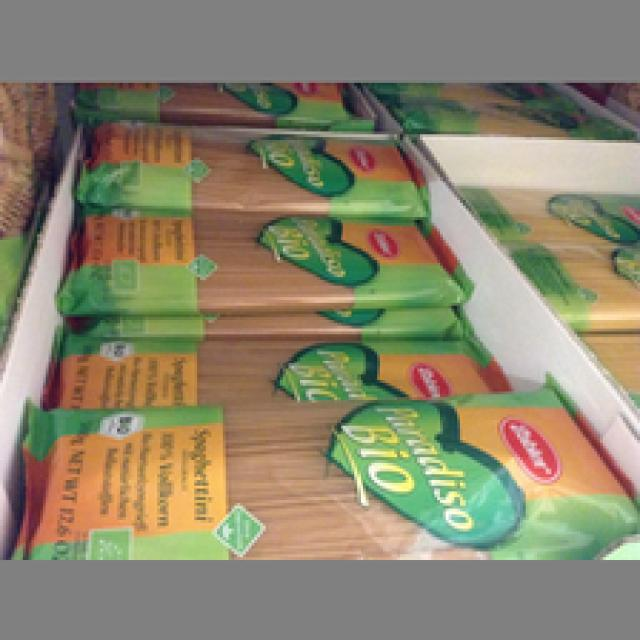groceries: (17, 386, 632, 554), (57, 197, 452, 306), (66, 103, 423, 214), (37, 323, 503, 391)
